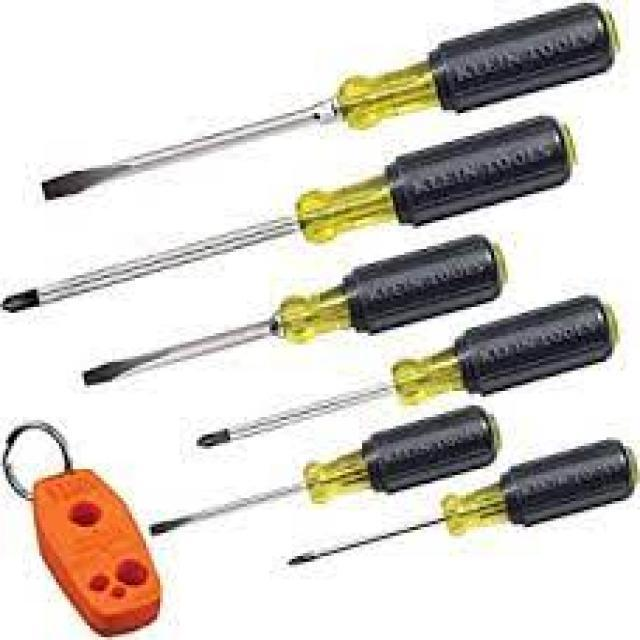screwdriver: (1, 110, 577, 319), (38, 2, 624, 205), (185, 291, 620, 471), (72, 233, 510, 404), (143, 398, 508, 543), (278, 438, 640, 570)
